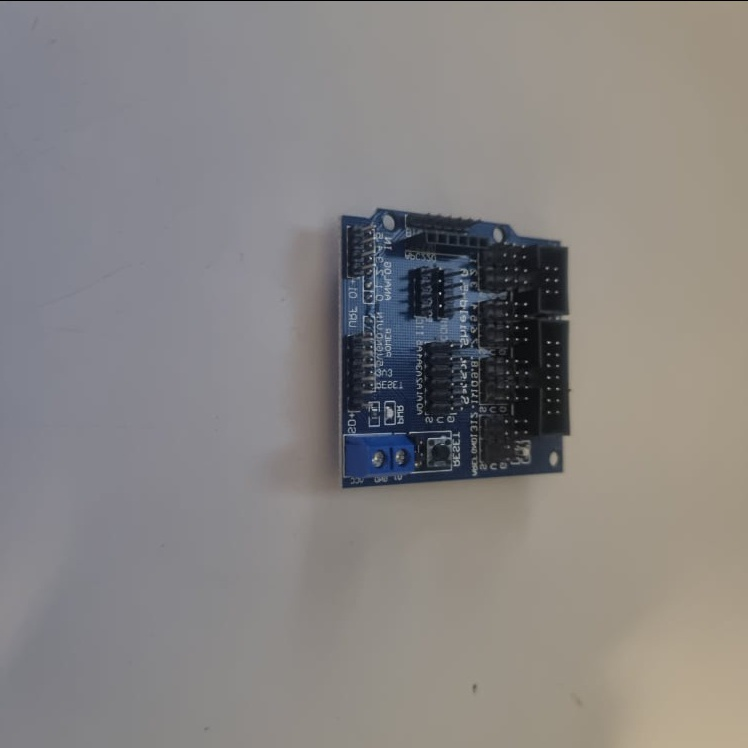5V EXPANSION: (334, 202, 577, 490)
